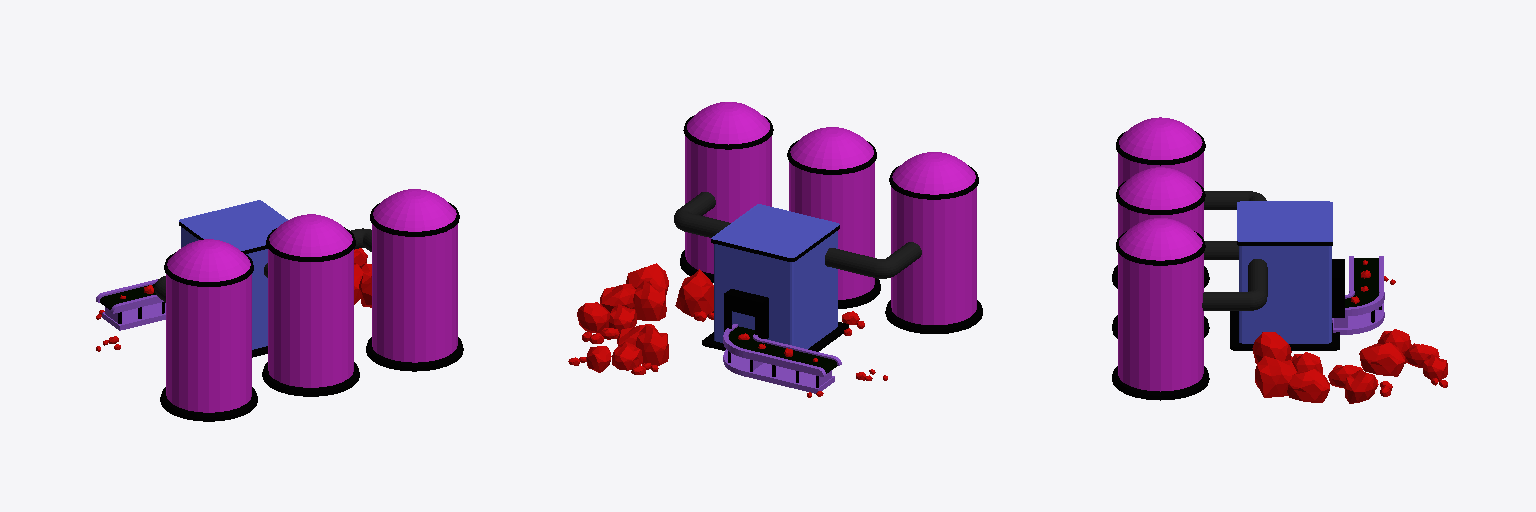
File: Kieswerk.obj
3 views of the same model, side by side, from view 1: azimuth 30°, elevation 25°; view 2: azimuth 150°, elevation 25°; view 3: azimuth 270°, elevation 25° (orthographic).
Parts seen in each view (by area): view 1: Cylinder.005_Cylinder.006; view 2: Cylinder.005_Cylinder.006; view 3: Cylinder.005_Cylinder.006.
Part boxes in pixels (x1,y1,x2,y2): Cylinder.005_Cylinder.006: (96, 189, 463, 421); Cylinder.005_Cylinder.006: (568, 102, 982, 397); Cylinder.005_Cylinder.006: (1112, 117, 1447, 403).
Size of the model in its own units: 0.7949 by 0.4162 by 0.7775.